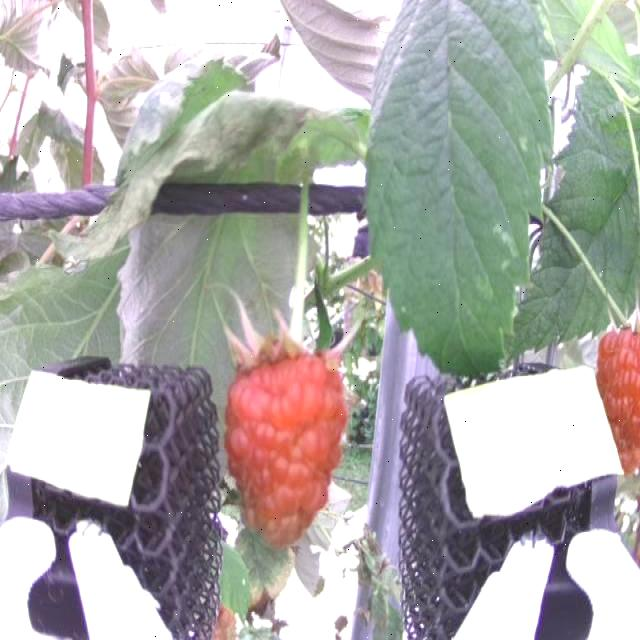Riped berries: (219, 306, 372, 548), (590, 320, 640, 462)
